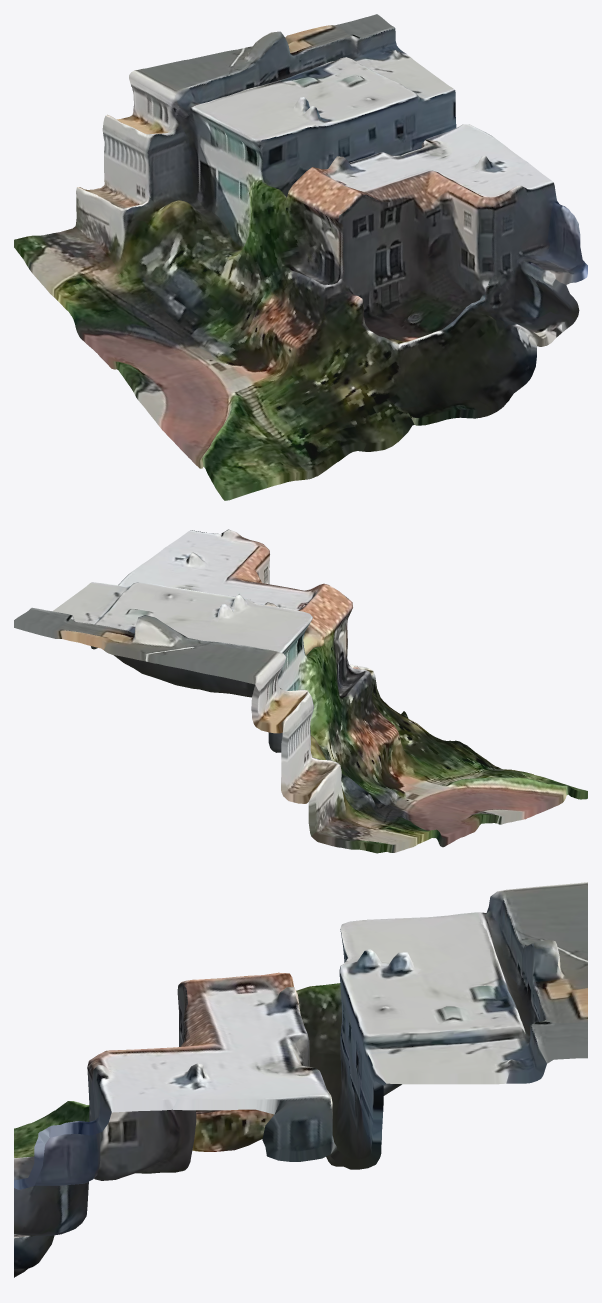
File: z20-167718-405195-h0-yup-uvflip-v3-world.glb
3 views of the same model, one above another, from view 1: azimuth 30°, elevation 25°; view 2: azimuth 150°, elevation 25°; view 3: azimuth 270°, elevation 25° (orthographic). The views are drawn at different scales.
Bounding box in the file's own units: 30.16 × 21 × 30.32.
Materials: 1 (1 with a texture image).
